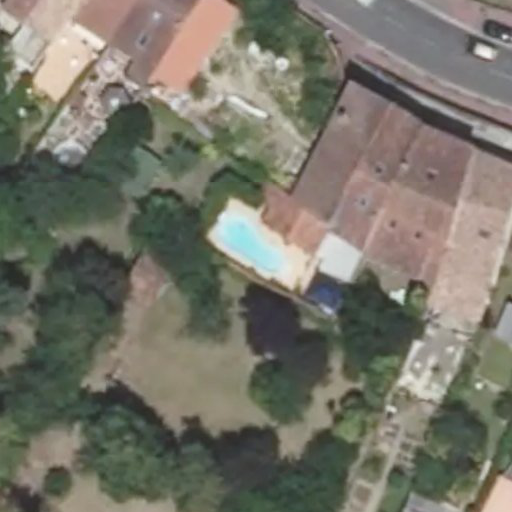pool: (218, 234, 295, 248)
